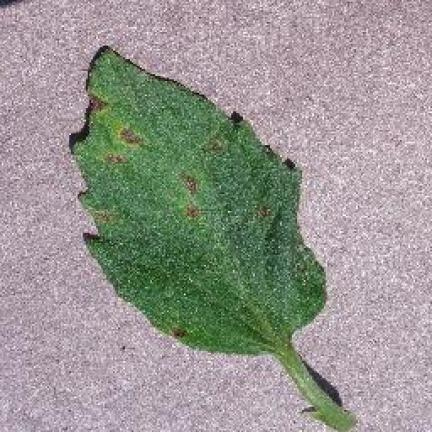disease: (74, 47, 353, 429)
leaf: (106, 154, 125, 162)
